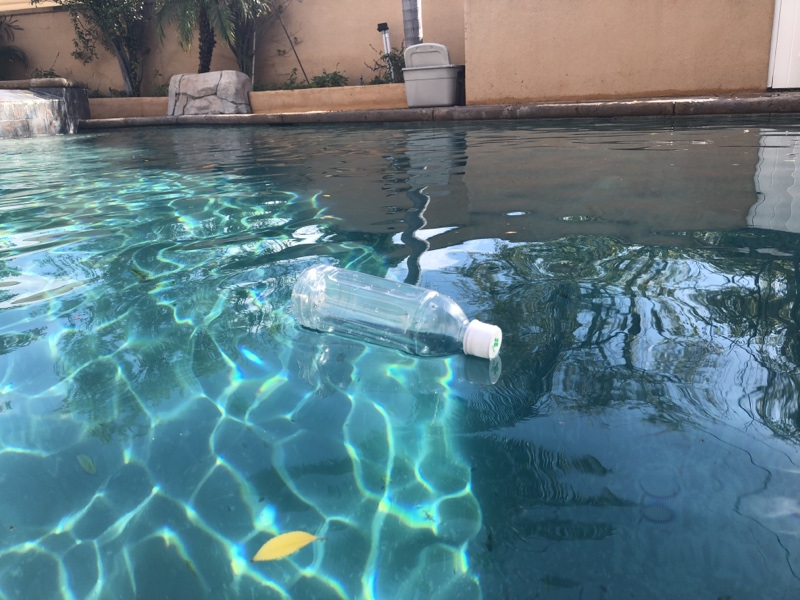Plastic Bottle: (288, 260, 506, 364)
